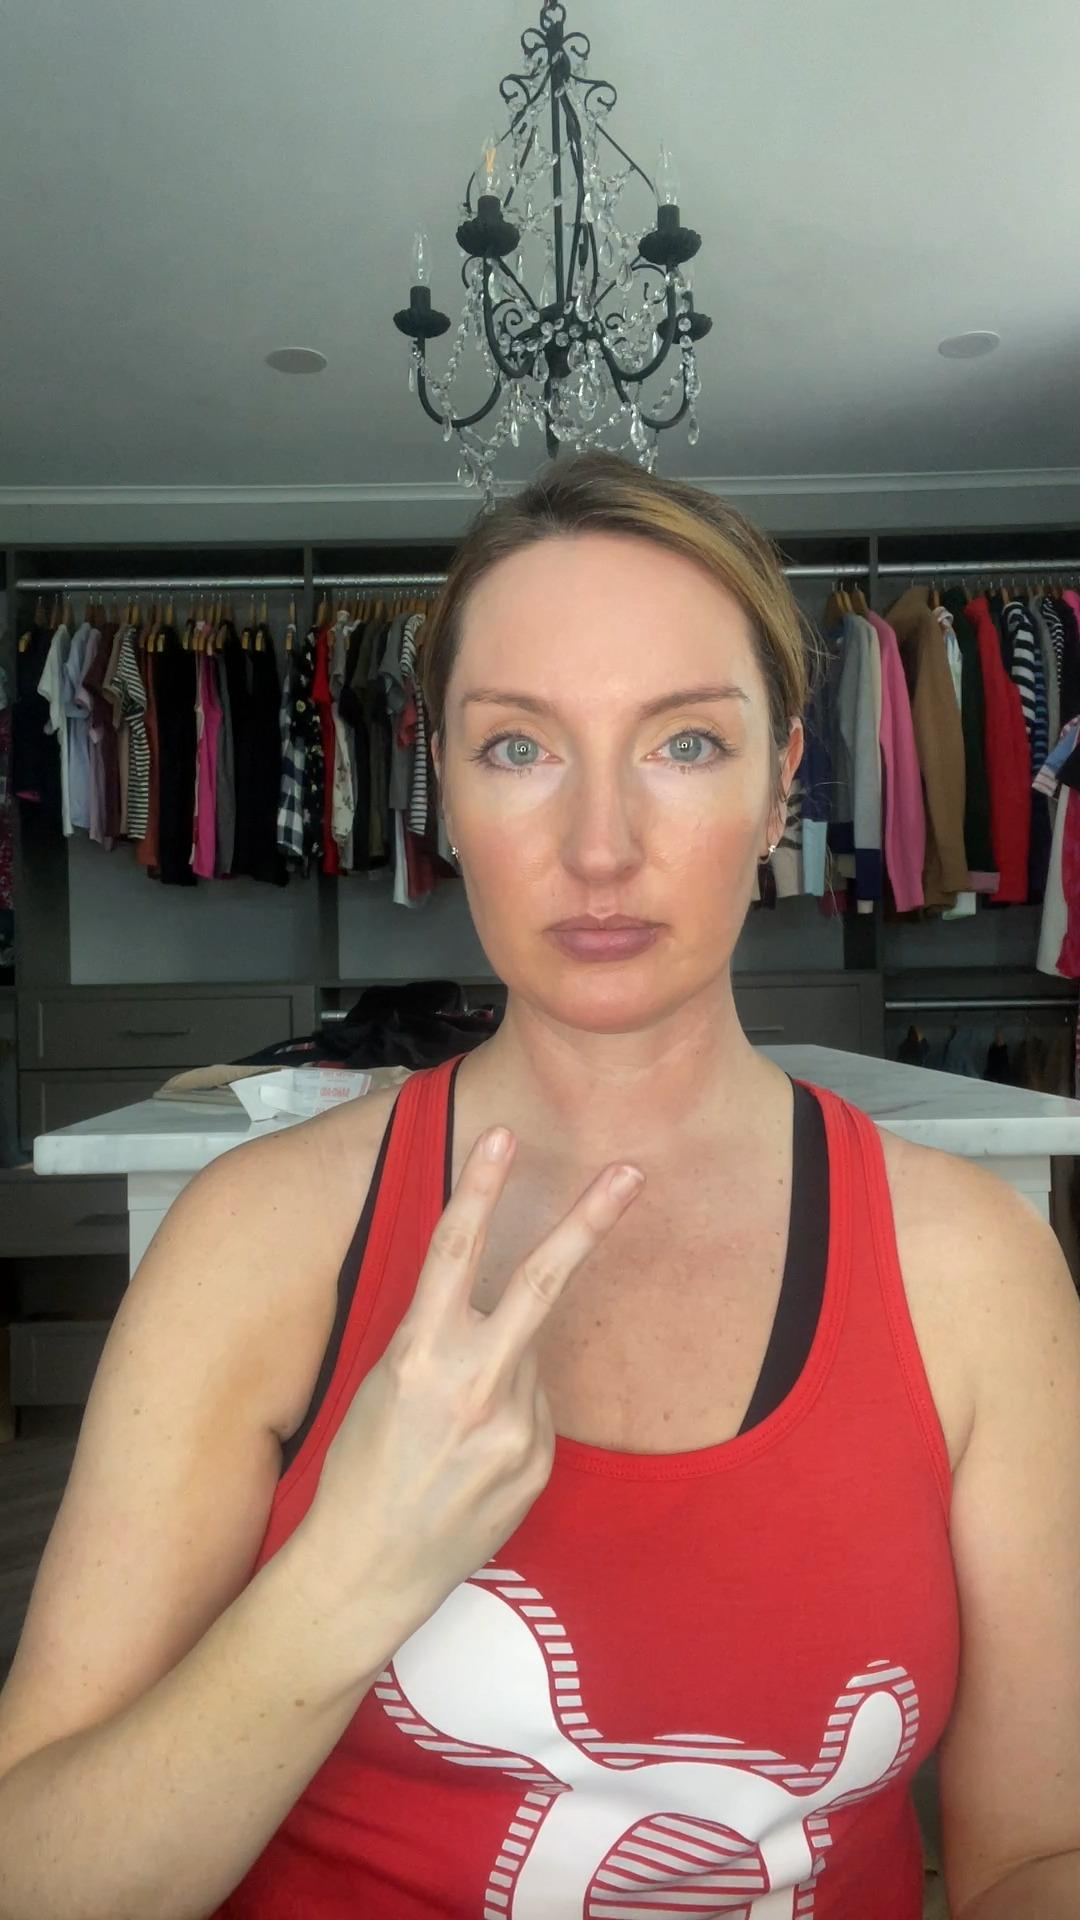Scissors: (327, 1124, 641, 1610)
